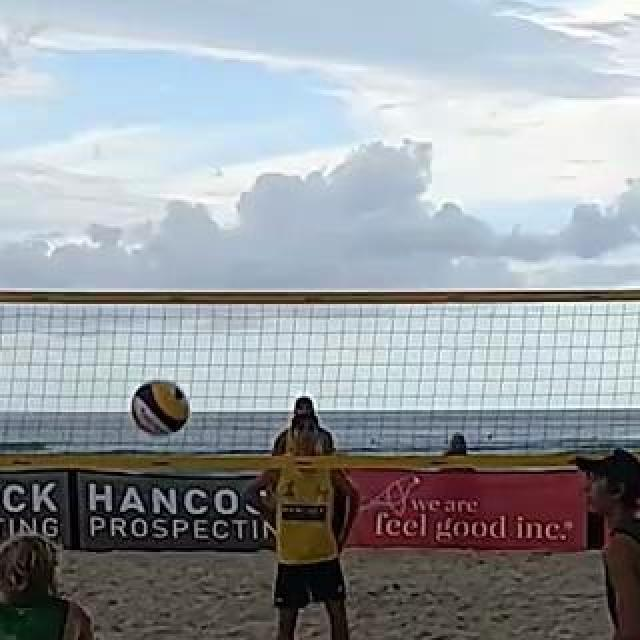volleyball: (130, 380, 188, 432)
